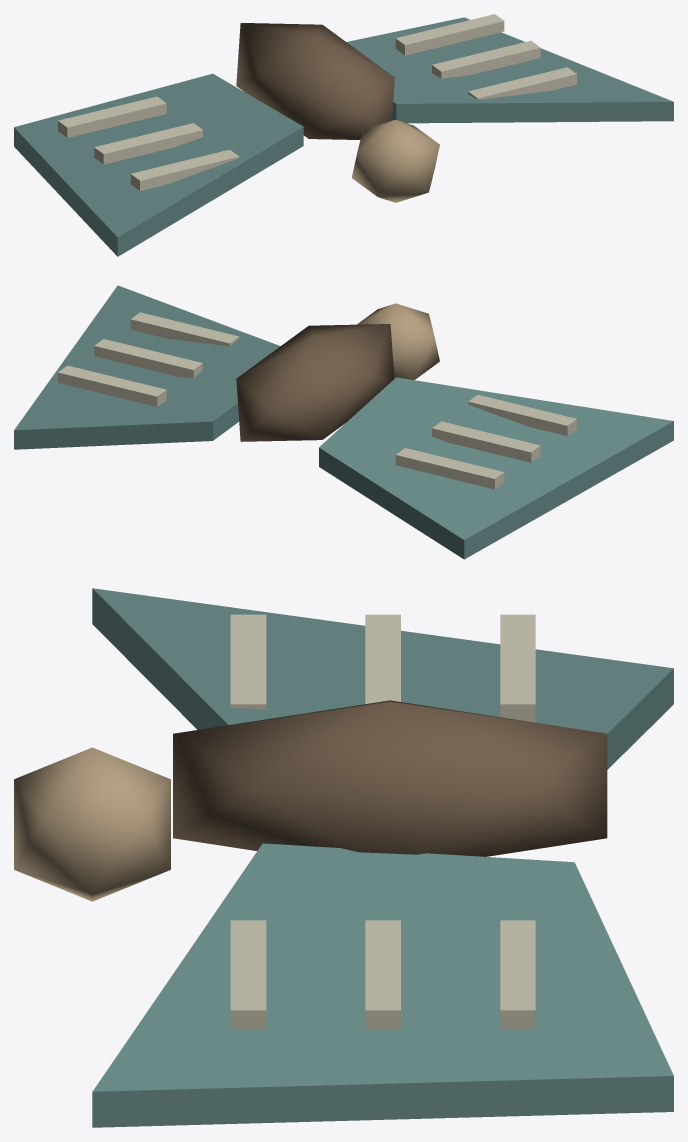
File: spread-portable-corpse-moth.fbx
The picture shows the model from 3 angles, top to bottom: view 1: azimuth 30°, elevation 25°; view 2: azimuth 150°, elevation 25°; view 3: azimuth 270°, elevation 25°; orthographic projection. The views are drawn at different scales.
Visible parts, largest first — view 1: spread-portable-corpse-moth__Geometry; view 2: spread-portable-corpse-moth__Geometry; view 3: spread-portable-corpse-moth__Geometry.
Part boxes in pixels (box(x1,y1,x2,y2)): spread-portable-corpse-moth__Geometry: box(14, 14, 673, 256); spread-portable-corpse-moth__Geometry: box(14, 285, 673, 559); spread-portable-corpse-moth__Geometry: box(14, 588, 673, 1127).
Size of the model in its own units: 0.84 by 0.16 by 0.4653.
